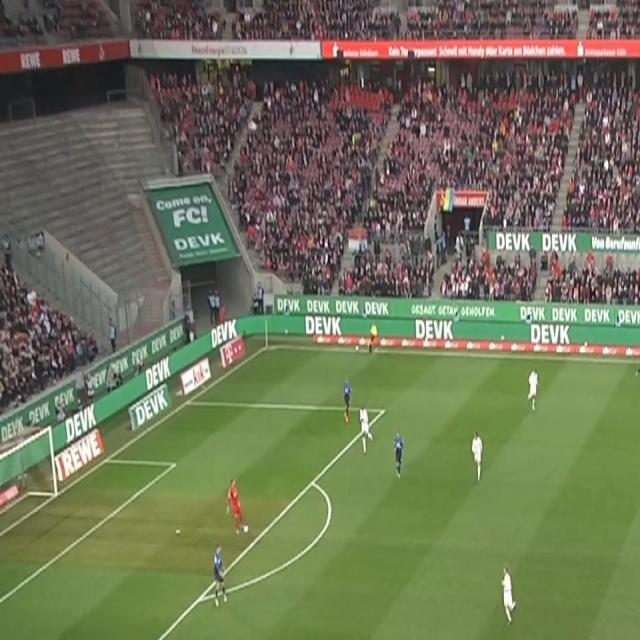ball: (243, 524, 249, 534)
